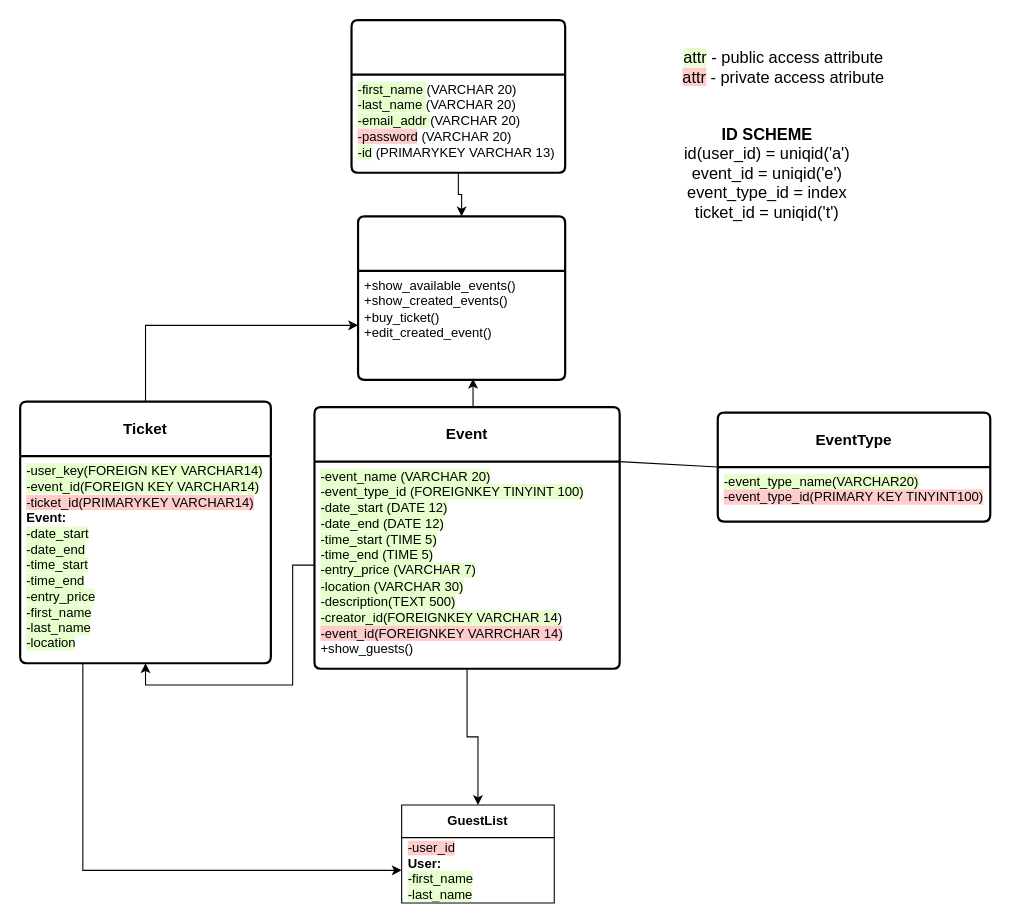
Image size: 1009x922. Some labels were removed from this diagram. Here are the shapes that lost their labels. From the top down, the box of each, then its label:
(350, 19, 566, 173): User
(356, 215, 566, 380): UserPage
